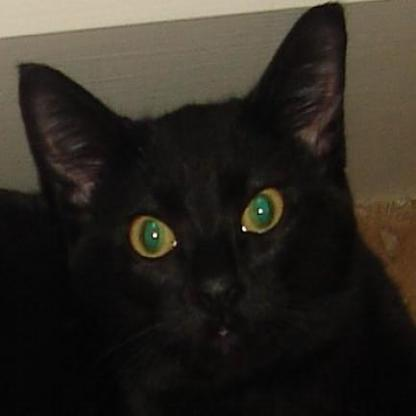cat: (0, 0, 407, 413)
